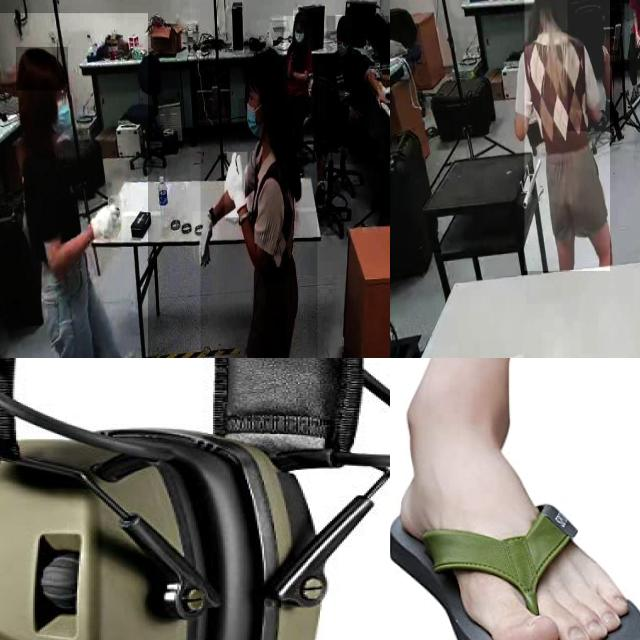Ear-protection: (0, 465, 202, 640), (189, 431, 321, 640)
Sandals: (394, 397, 640, 640)
face_mask: (238, 98, 266, 143), (53, 93, 73, 141), (338, 32, 352, 58), (294, 22, 304, 44)
hand_glove: (88, 200, 121, 248), (225, 152, 248, 218), (192, 212, 218, 266)
hand_noglove: (376, 88, 390, 110), (287, 49, 297, 61), (635, 31, 640, 48), (636, 32, 640, 47)
head_nohelmet: (16, 47, 68, 91), (245, 44, 282, 78), (336, 15, 352, 31), (293, 10, 307, 22)
person: (0, 13, 148, 358), (200, 46, 317, 358), (524, 0, 610, 272), (326, 16, 389, 165), (567, 0, 624, 131), (284, 16, 314, 157), (629, 0, 640, 107)
